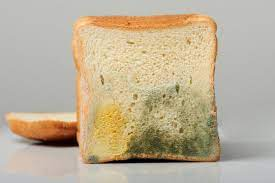mold_bread: (128, 82, 222, 166), (81, 95, 125, 144), (83, 151, 103, 164)
